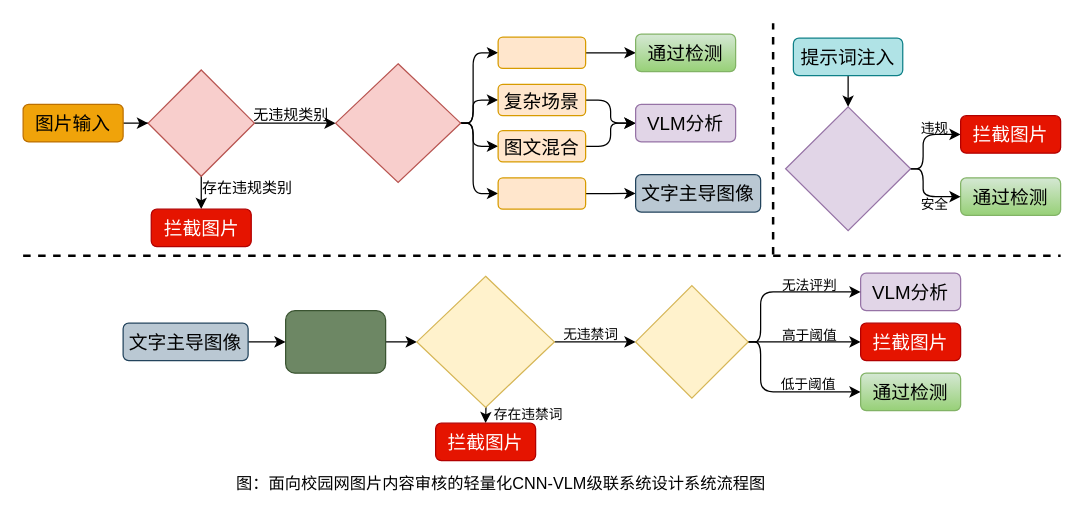
The diagram is 1084 pixels wide and 531 high, and some of its shapes have lost their labels. The shapes that lost their labels are listed below. From the top down, each one's box as (x1, y1, x2, y2) in pixels, then its label:
(497, 36, 586, 68): 简单场景
(147, 69, 254, 176): YOLOv26
(334, 62, 461, 182): MobileNet V4
(784, 106, 911, 231): VLM分析 Qwen3-VL
(497, 177, 586, 209): 文字主导
(284, 309, 386, 373): OCR 文字提取
(416, 275, 554, 408): Trie 树 违禁词匹配
(634, 284, 748, 398): DistilBERT
